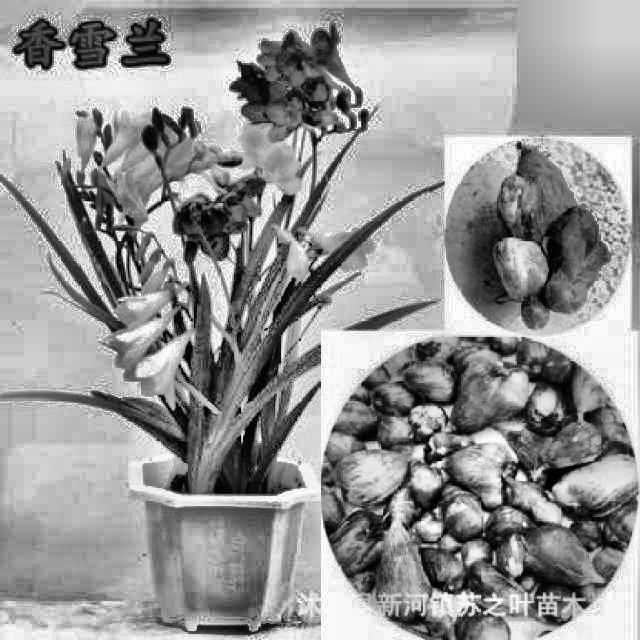plants: (107, 111, 320, 640)
